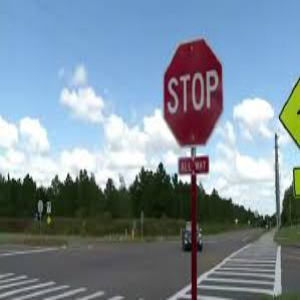STOP_SIGN: (161, 35, 224, 148)
